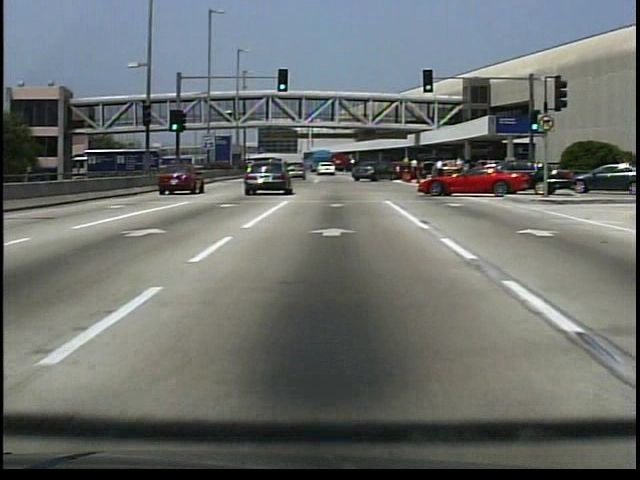person: (410, 158, 421, 183), (435, 159, 445, 179), (227, 110, 234, 124)
